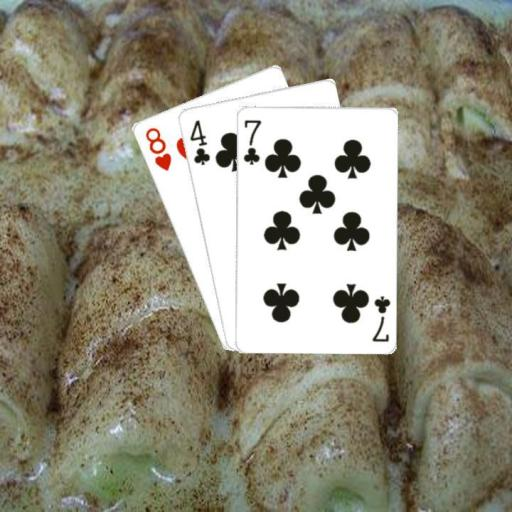4C: (187, 116, 212, 166)
7C: (369, 293, 391, 344), (241, 116, 263, 166)
8H: (141, 124, 173, 173)
